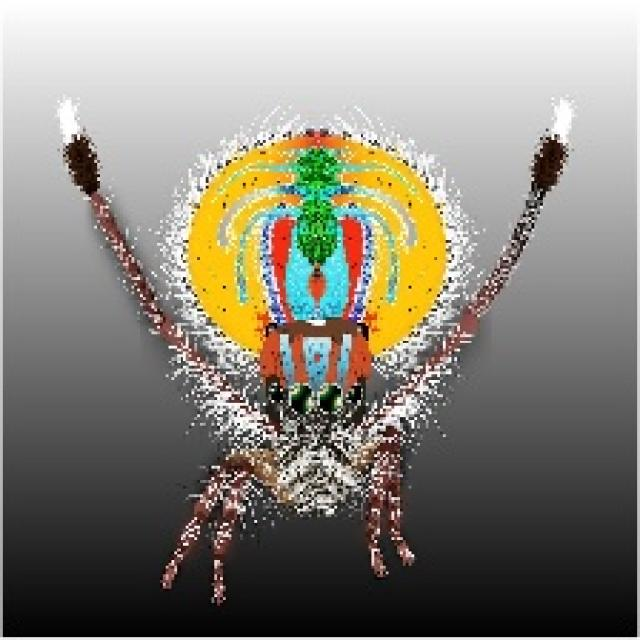Non venomous spider: (26, 41, 613, 640)
